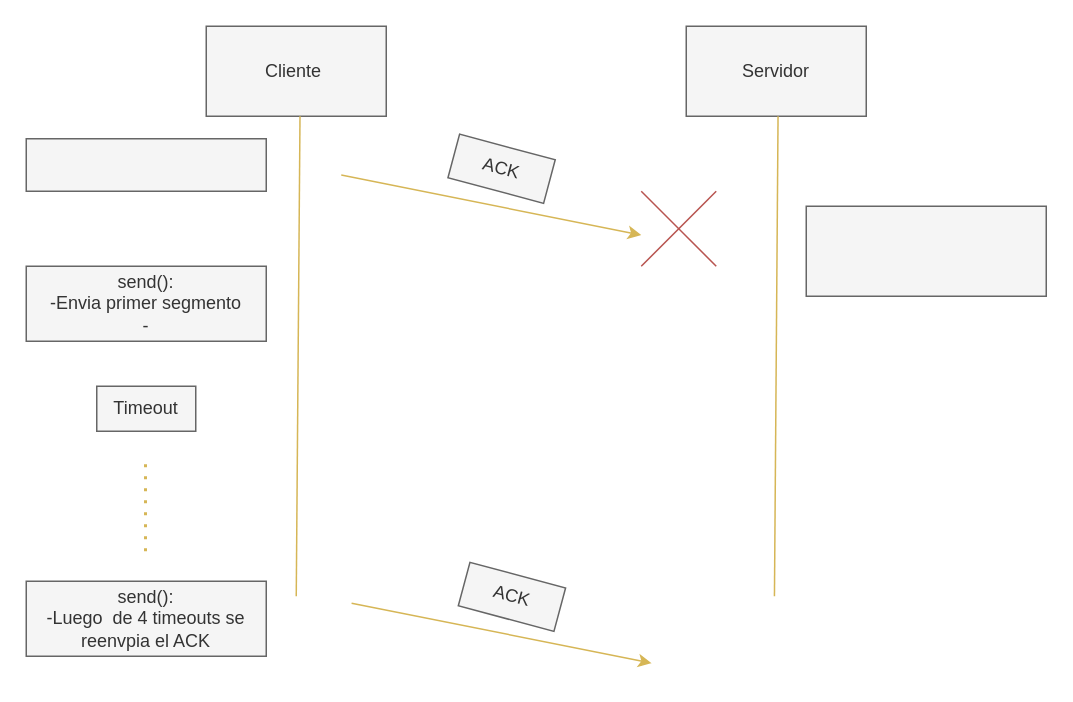
Image size: 1073x702. Some labels were removed from this diagram. The shapes that lost their labels are listed below. From the top down, each one's centre as x and y in pixels, then its label:
At point 145,164: "connect(): -Envía ACK".
At point 925,250: "accept(): -No Recibe ACK -se queda wait por un nuevo ACK".
